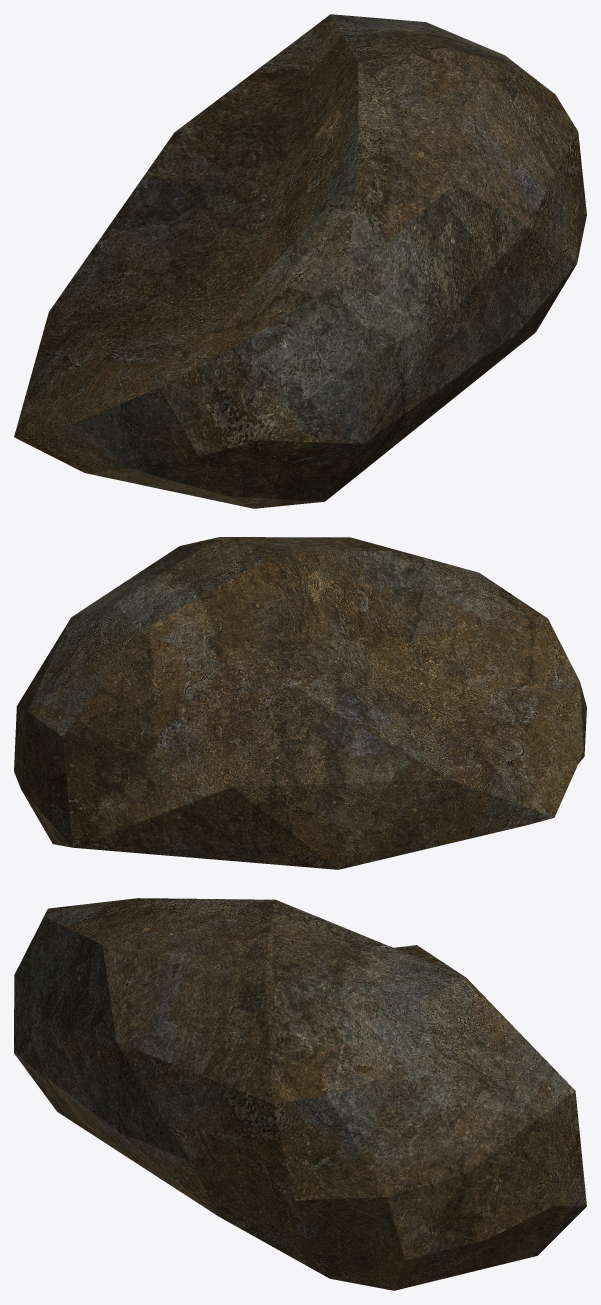
Rendered from stone_1.glb.
3 renders of one model, top to bottom at view 1: azimuth 30°, elevation 25°; view 2: azimuth 150°, elevation 25°; view 3: azimuth 270°, elevation 25°, orthographic. The views are drawn at different scales.
Parts seen in each view (by area): view 1: stone_1; view 2: stone_1; view 3: stone_1.
Boxes of the visible parts, x1,y1,x2,y2 form: stone_1: (14, 14, 586, 508); stone_1: (14, 537, 586, 869); stone_1: (14, 898, 586, 1290).
Size of the model in its own units: 1.52 by 0.8137 by 1.36.
Materials: 1 (1 with a texture image).
